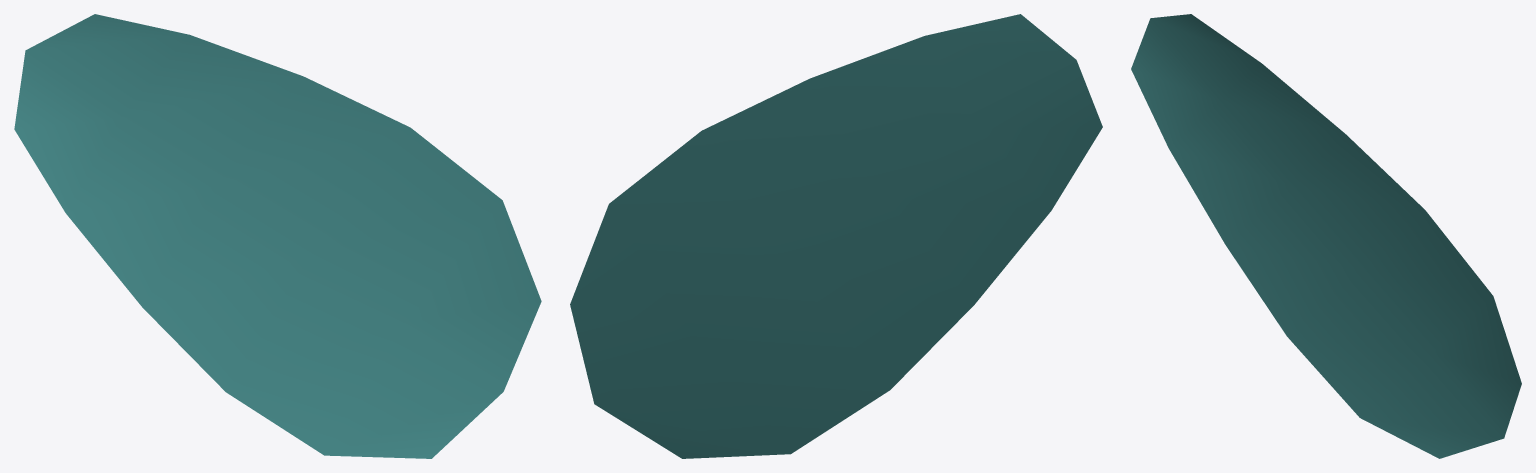
Rendered from budgie_feather_flight_tertiary_059.obj.
3 views of the same model, side by side, from view 1: azimuth 30°, elevation 25°; view 2: azimuth 150°, elevation 25°; view 3: azimuth 330°, elevation 25° (orthographic). The views are drawn at different scales.
Visible parts, largest first — view 1: feather_flight_tertiary_059; view 2: feather_flight_tertiary_059; view 3: feather_flight_tertiary_059.
Part boxes in pixels (box(x1,y1,x2,y2)): feather_flight_tertiary_059: box(14, 14, 541, 458); feather_flight_tertiary_059: box(570, 14, 1102, 458); feather_flight_tertiary_059: box(1131, 14, 1521, 458).
Size of the model in its own units: 0.0135 by 0.0129 by 0.000493.
